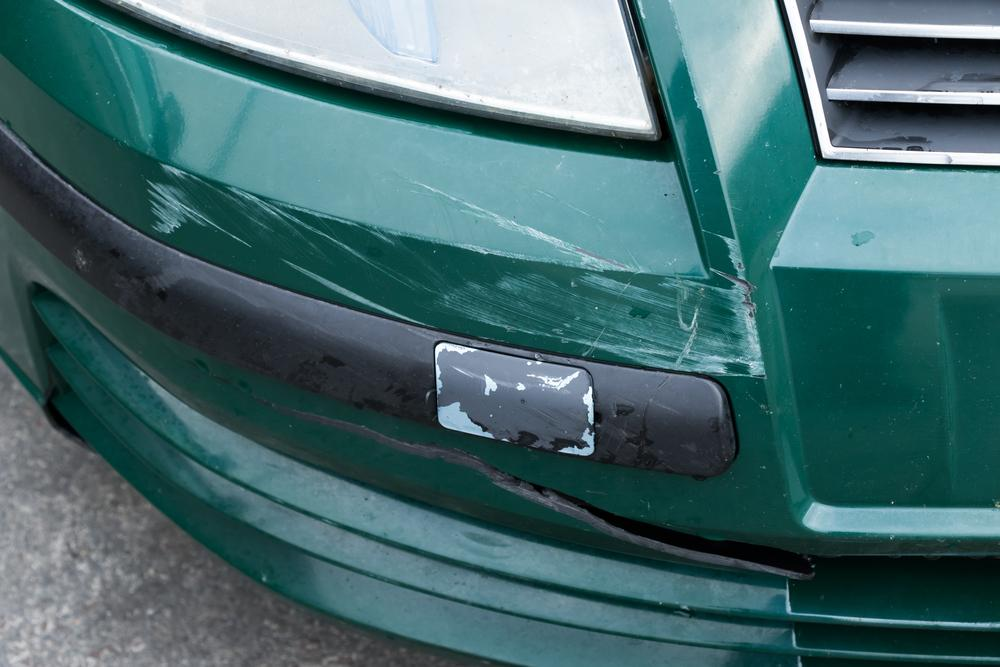crack: (242, 390, 816, 578)
scratch: (144, 156, 772, 378)
